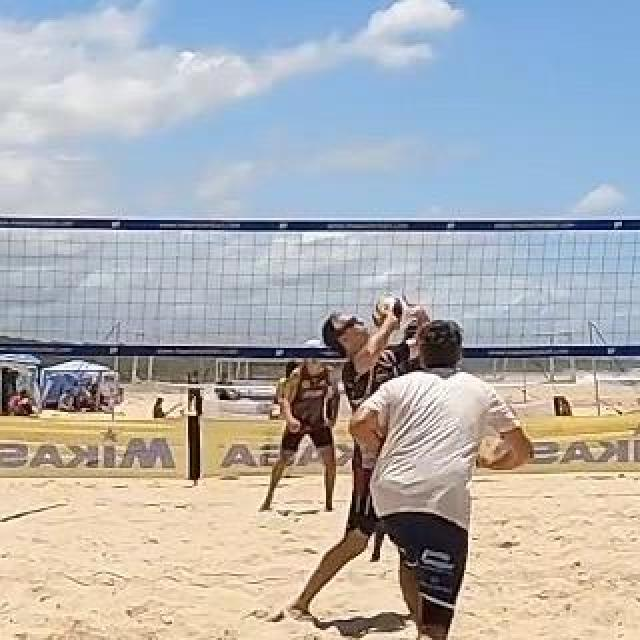volleyball: (374, 296, 406, 328)
